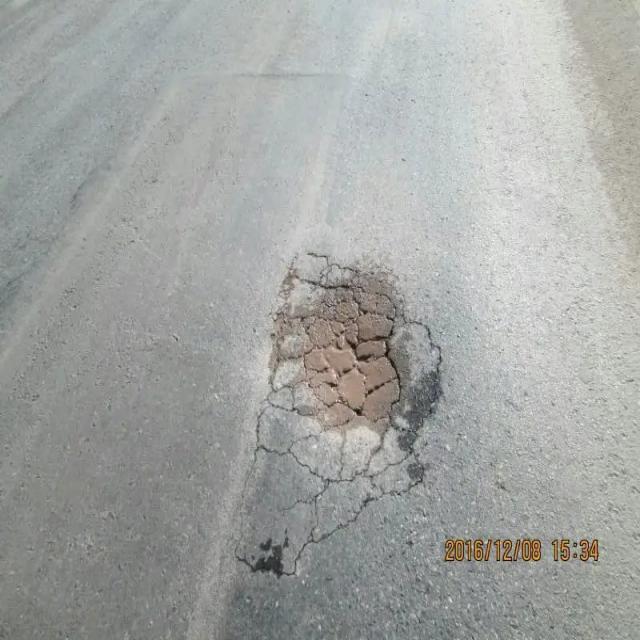Pothole: (273, 253, 443, 485)
